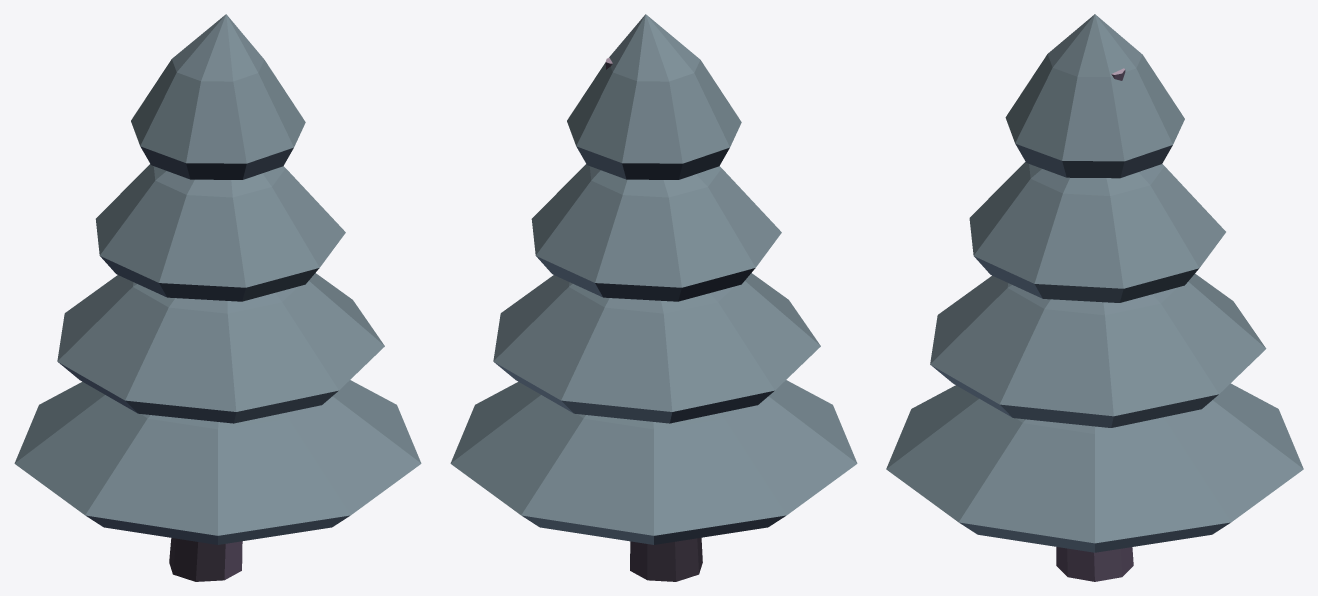
Rendered from TW_TREE_TIERED_WIDE_B_LOD0.glb.
3 views of the same model, side by side, from view 1: azimuth 30°, elevation 25°; view 2: azimuth 150°, elevation 25°; view 3: azimuth 270°, elevation 25° (orthographic). The views are drawn at different scales.
Parts seen in each view (by area): view 1: TW_TREE_TIERED_WIDE_B_LOD0; view 2: TW_TREE_TIERED_WIDE_B_LOD0; view 3: TW_TREE_TIERED_WIDE_B_LOD0.
Part boxes in pixels (x1=…): TW_TREE_TIERED_WIDE_B_LOD0: x1=14, y1=14, x2=421, y2=581; TW_TREE_TIERED_WIDE_B_LOD0: x1=450, y1=14, x2=857, y2=581; TW_TREE_TIERED_WIDE_B_LOD0: x1=886, y1=14, x2=1303, y2=581.
Size of the model in its own units: 2.52 by 3.8 by 2.56.
1 material, 1 textured.
